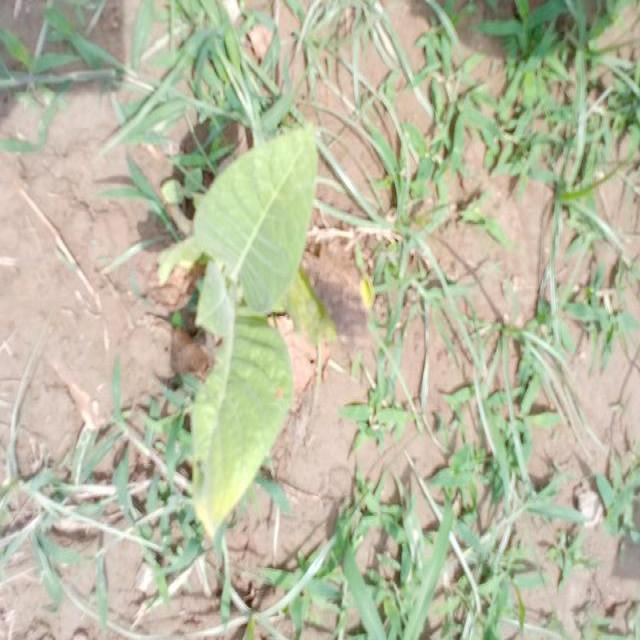crop: (194, 128, 320, 518)
